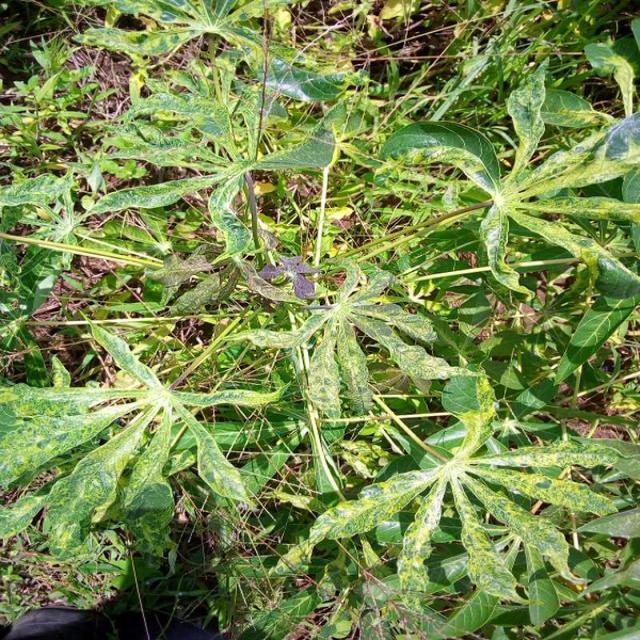cassava leaf: (1, 2, 638, 636), (300, 370, 630, 619), (378, 63, 638, 300)
